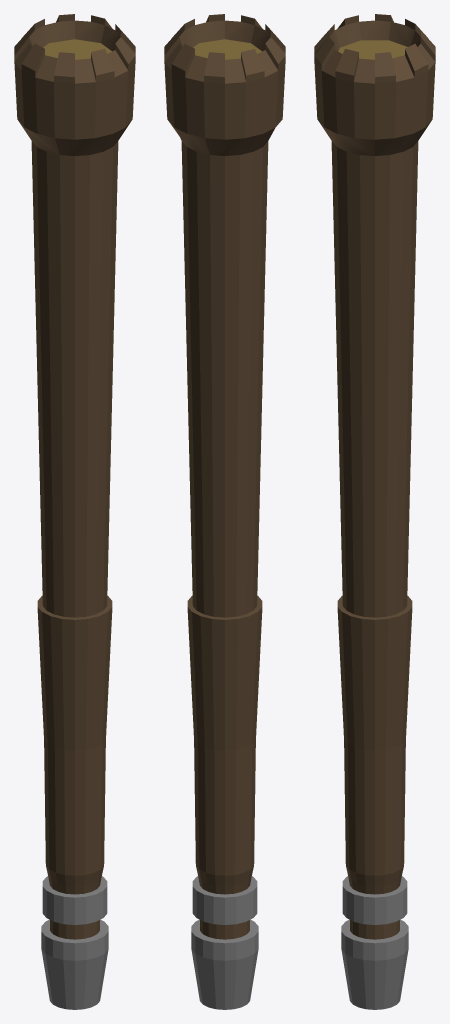
Rendered from Torch.fbx.
The picture shows the model from 3 angles, left to right: view 1: azimuth 90°, elevation 25°; view 2: azimuth 210°, elevation 25°; view 3: azimuth 270°, elevation 25°; orthographic projection.
Visible parts, largest first — view 1: Cylinder001; view 2: Cylinder001; view 3: Cylinder001.
Boxes of the visible parts, x1,y1,x2,y2 form: Cylinder001: (14, 14, 135, 1009); Cylinder001: (164, 14, 285, 1009); Cylinder001: (314, 14, 435, 1009).
Size of the model in its own units: 70.19 by 607 by 69.12.
